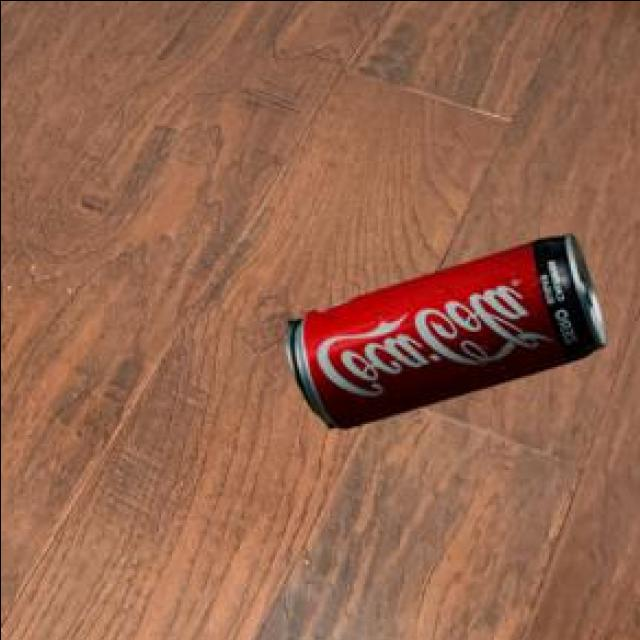logam: (288, 231, 608, 424)
